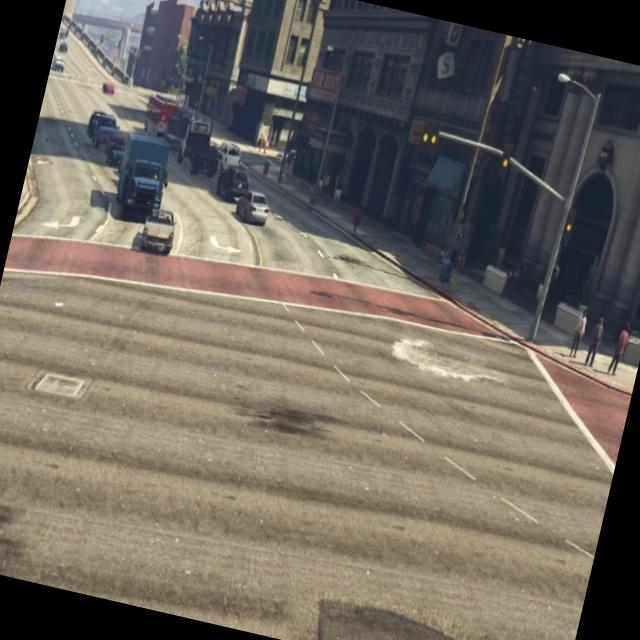Yellow-Signal: (404, 103, 452, 185), (552, 190, 586, 263), (486, 135, 522, 200)
